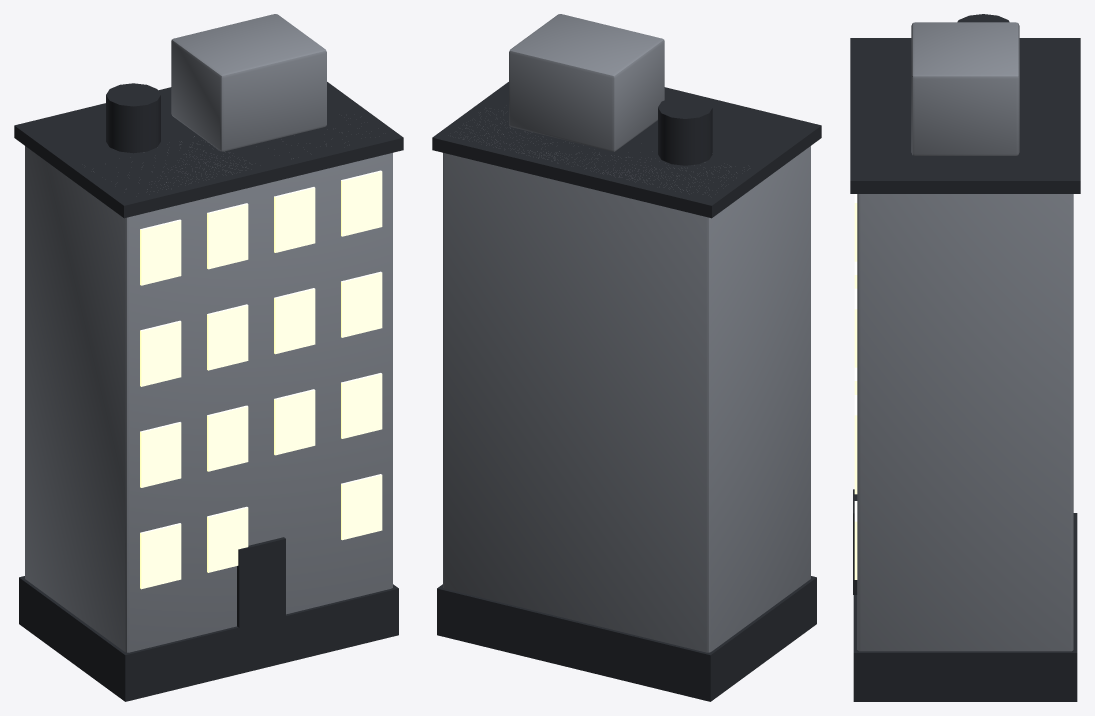
File: predio-18x32.glb
3 views of the same model, side by side, from view 1: azimuth 30°, elevation 25°; view 2: azimuth 150°, elevation 25°; view 3: azimuth 270°, elevation 25° (orthographic). The views are drawn at different scales.
Visible parts, largest first — view 1: corpo, cornija, embasamento, casa-de-maquinas, porta, caixa-dagua, janela.006, janela.004, janela.007, janela.008, janela.009, janela.015 (+9 smaller); view 2: corpo, cornija, embasamento, casa-de-maquinas, caixa-dagua; view 3: corpo, cornija, casa-de-maquinas, embasamento.
Part boxes in pixels (left/top/right/bottom): corpo: left=25, top=136, right=392, bottom=652; cornija: left=14, top=82, right=403, bottom=218; embasamento: left=19, top=576, right=398, bottom=701; casa-de-maquinas: left=171, top=14, right=326, bottom=151; porta: left=237, top=537, right=285, bottom=627; caixa-dagua: left=106, top=83, right=160, bottom=153; janela.006: left=207, top=405, right=248, bottom=471; janela.004: left=140, top=219, right=181, bottom=285; janela.007: left=207, top=304, right=248, bottom=370; janela.008: left=207, top=203, right=248, bottom=269; janela.009: left=274, top=389, right=315, bottom=455; janela.015: left=341, top=170, right=382, bottom=236; corpo: left=443, top=111, right=810, bottom=652; cornija: left=432, top=82, right=821, bottom=218; embasamento: left=437, top=576, right=816, bottom=701; casa-de-maquinas: left=509, top=14, right=664, bottom=151; caixa-dagua: left=658, top=96, right=712, bottom=165; corpo: left=857, top=194, right=1073, bottom=651; cornija: left=850, top=38, right=1080, bottom=193; casa-de-maquinas: left=911, top=22, right=1019, bottom=155; embasamento: left=853, top=513, right=1077, bottom=701.
Size of the model in its own units: 1.88 by 3.7 by 1.28.
